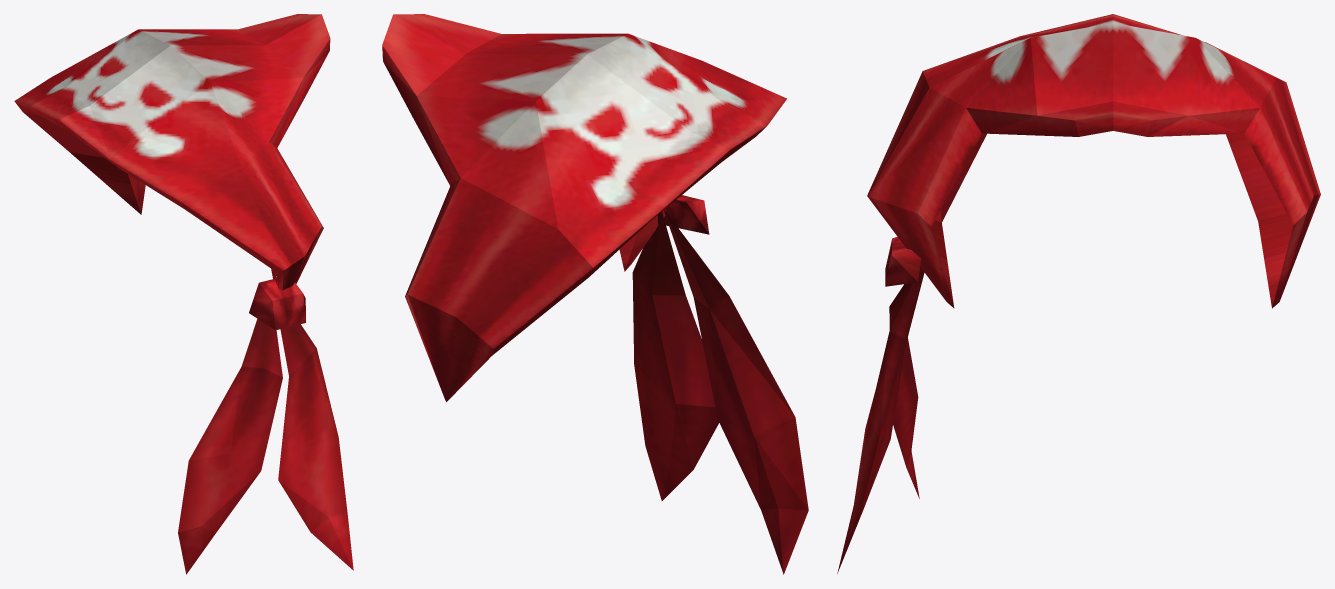
The model's file is Bat_pirateBandana.obj.
3 views of the same model, side by side, from view 1: azimuth 30°, elevation 25°; view 2: azimuth 150°, elevation 25°; view 3: azimuth 270°, elevation 25° (orthographic). The views are drawn at different scales.
Visible parts, largest first — view 1: Bat_pirateBandana_tri; view 2: Bat_pirateBandana_tri; view 3: Bat_pirateBandana_tri.
Part boxes in pixels (<box>): Bat_pirateBandana_tri: <box>14,14,353,574</box>; Bat_pirateBandana_tri: <box>382,14,808,574</box>; Bat_pirateBandana_tri: <box>837,14,1320,573</box>.
Size of the model in its own units: 0.202 by 0.3306 by 0.2802.
1 material, 1 textured.
